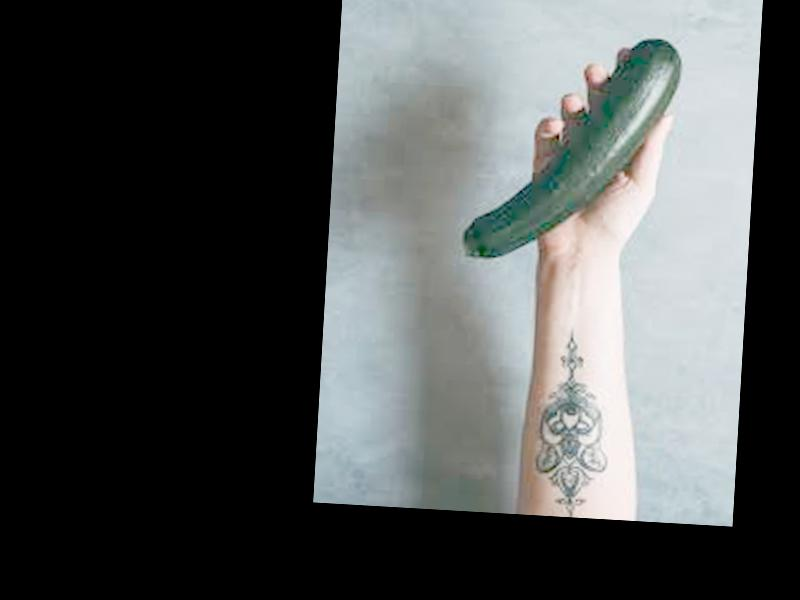Cucumber: (462, 28, 682, 267)
